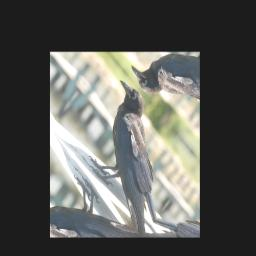Crow: (67, 74, 197, 237)
